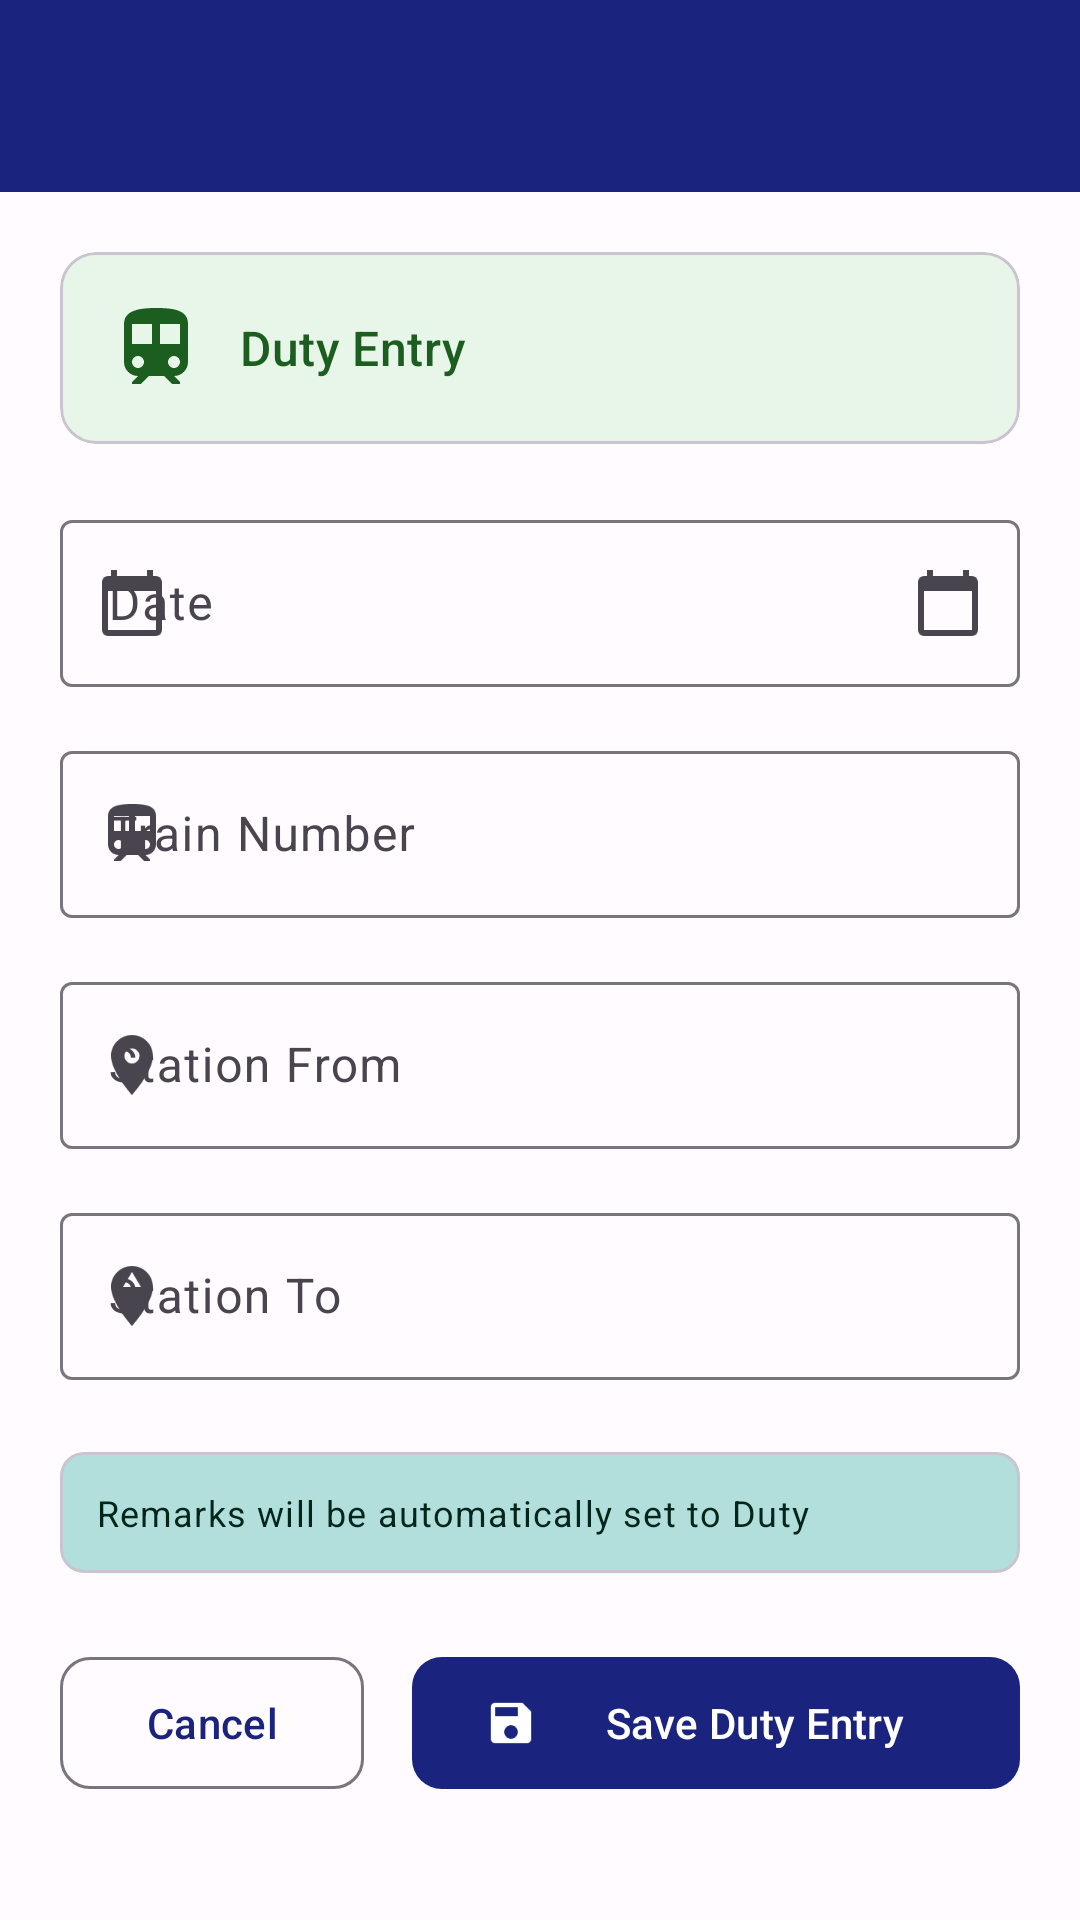

Point at icon controls on the screen. Image size 1080*1920, points as (x,y).
train: (156,346)
